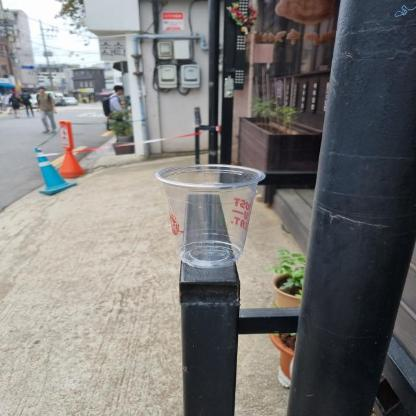Plastic Cup: (155, 162, 269, 268)
